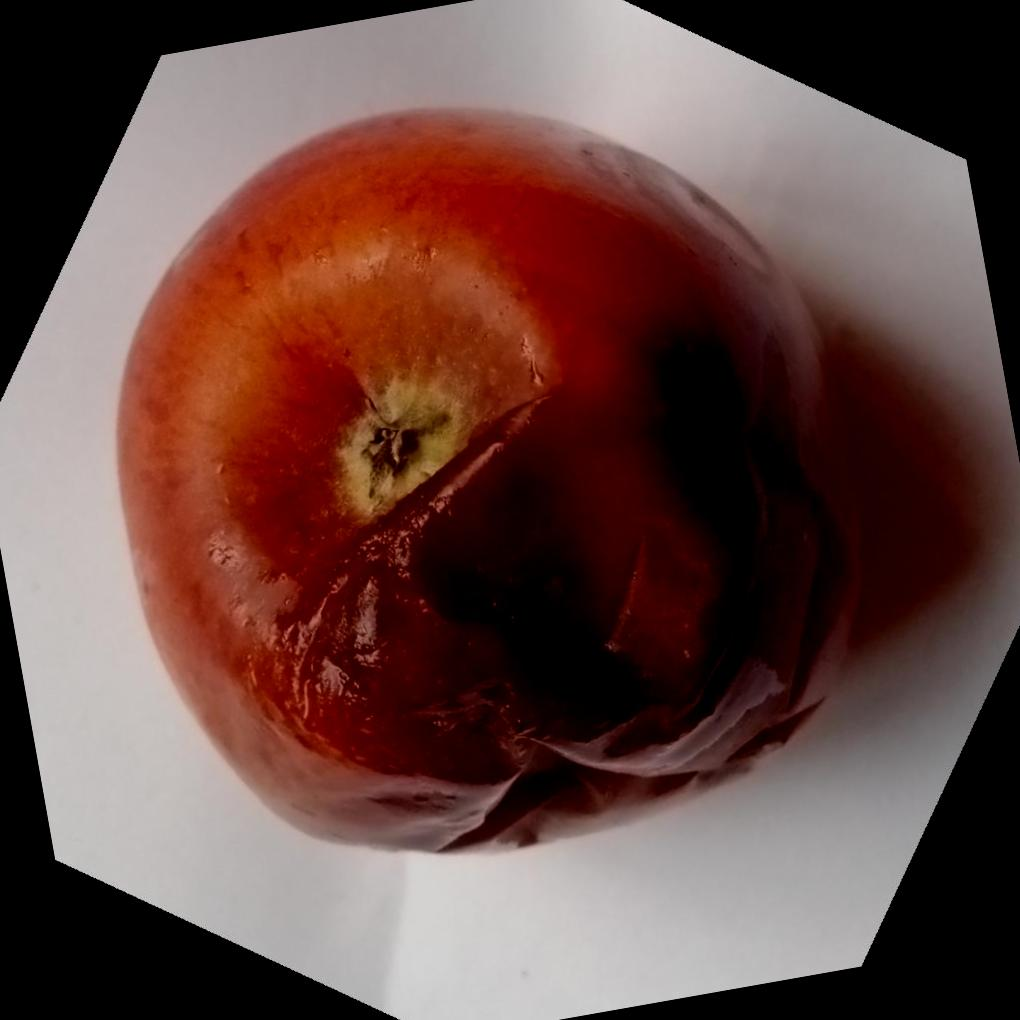FreshOrange: (113, 101, 863, 854)
